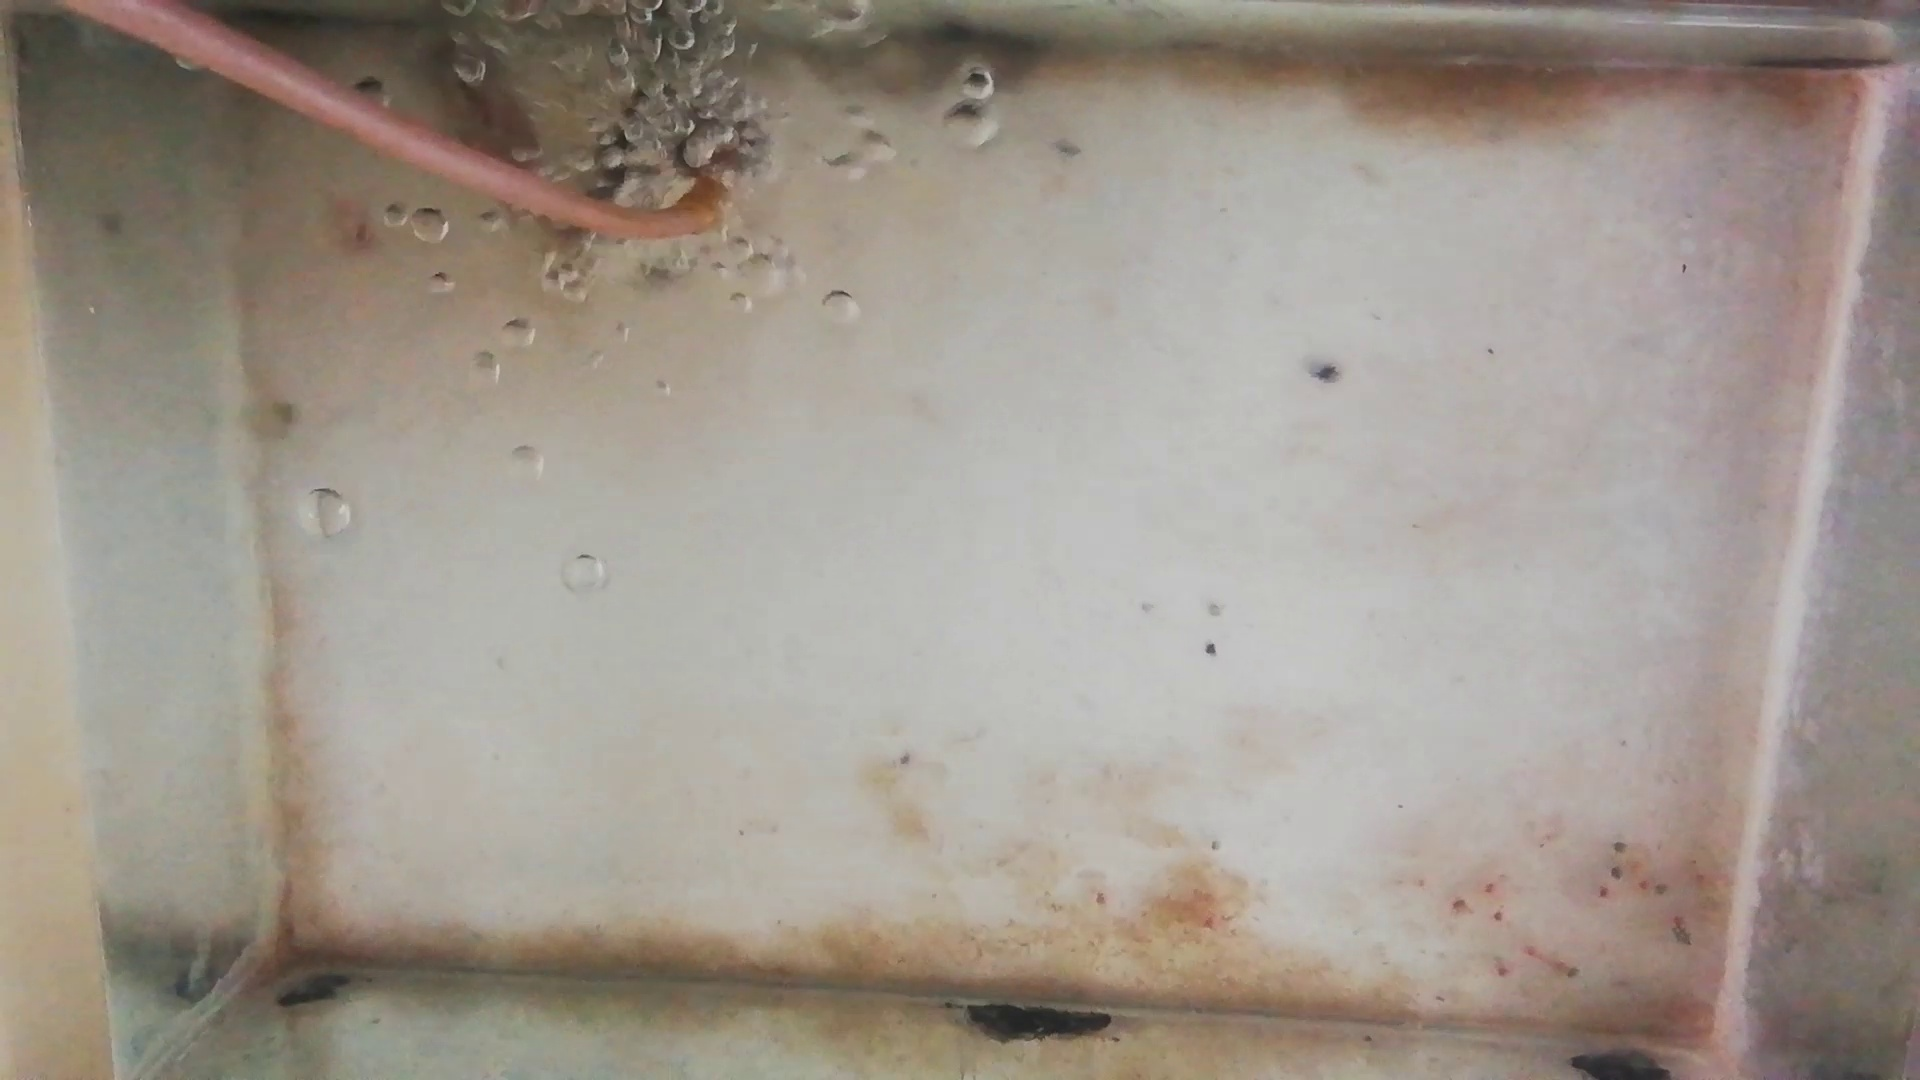fish: (421, 11, 539, 174), (578, 44, 669, 194)
